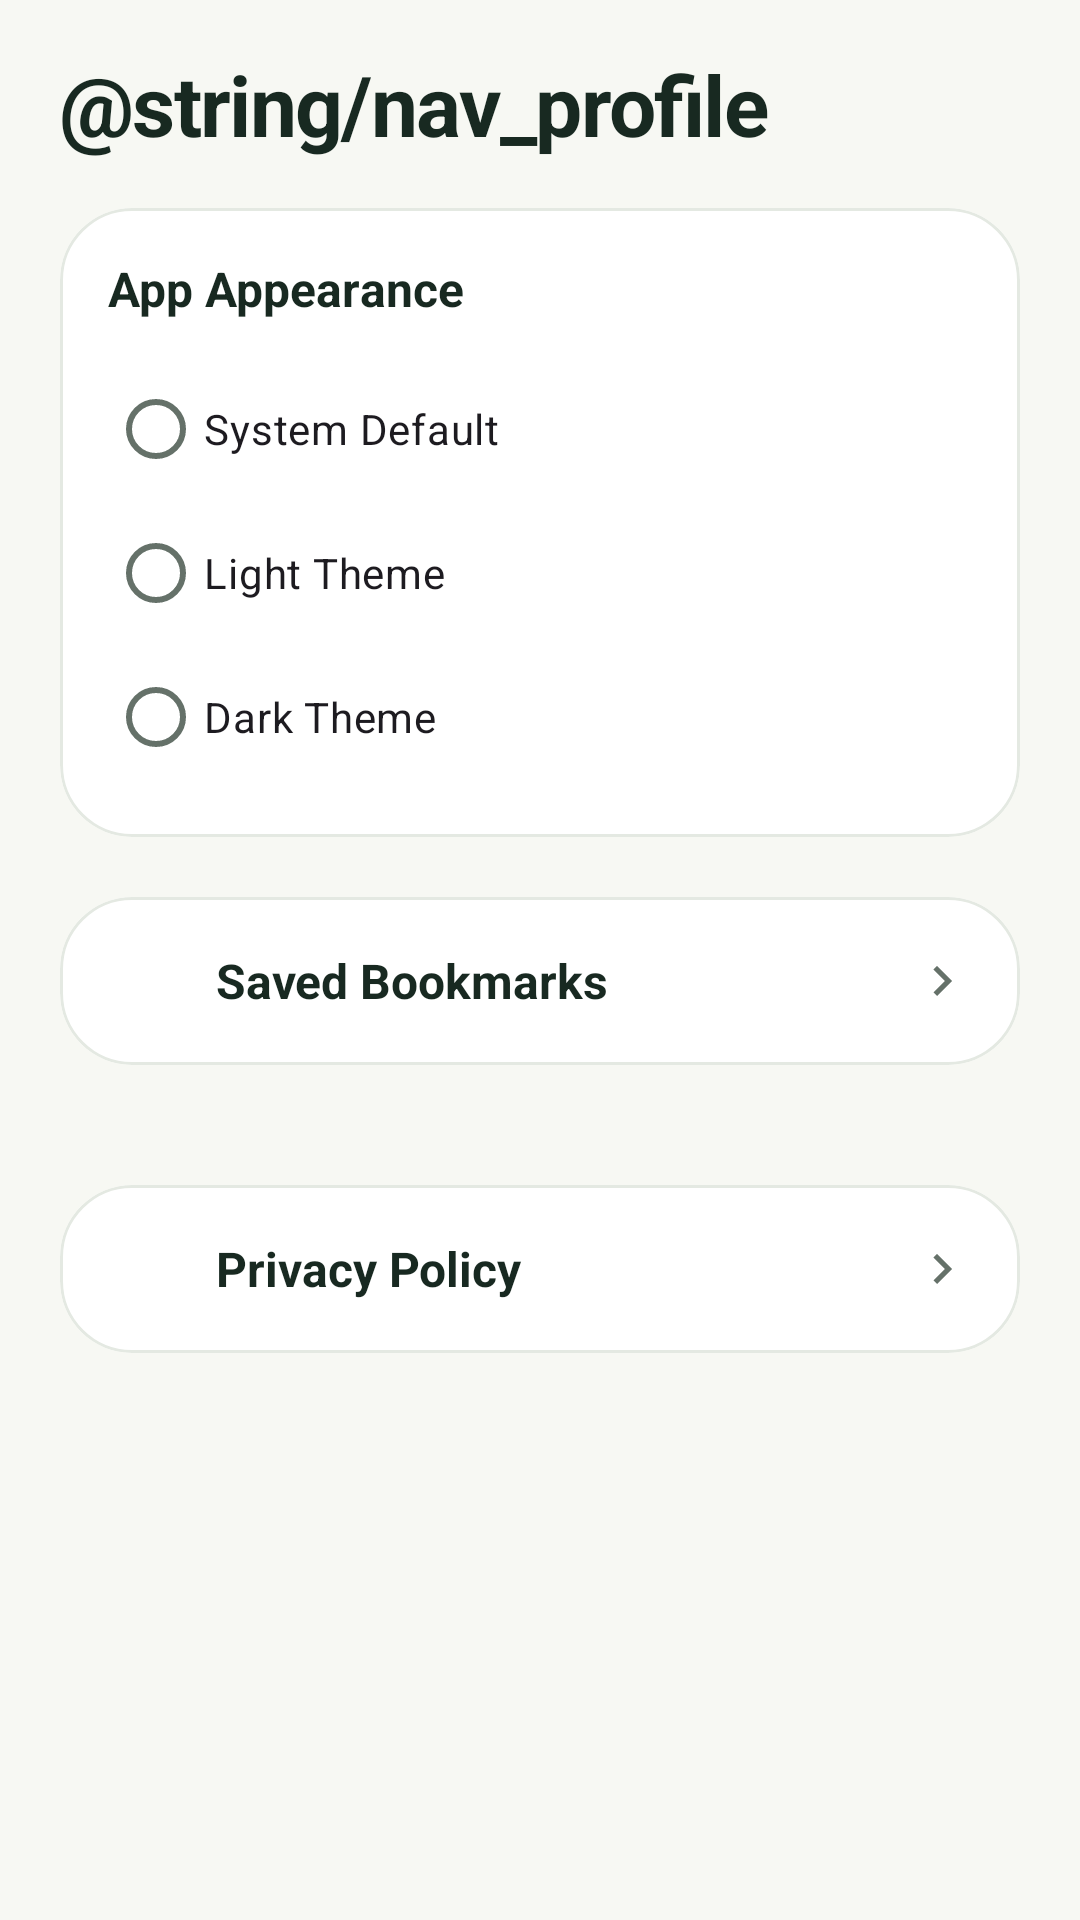

Icons on this 1080 x 1920 Android screen, each with the point to tap as (x=x, y=y):
arrow right: (x=942, y=981), (x=942, y=1269)
